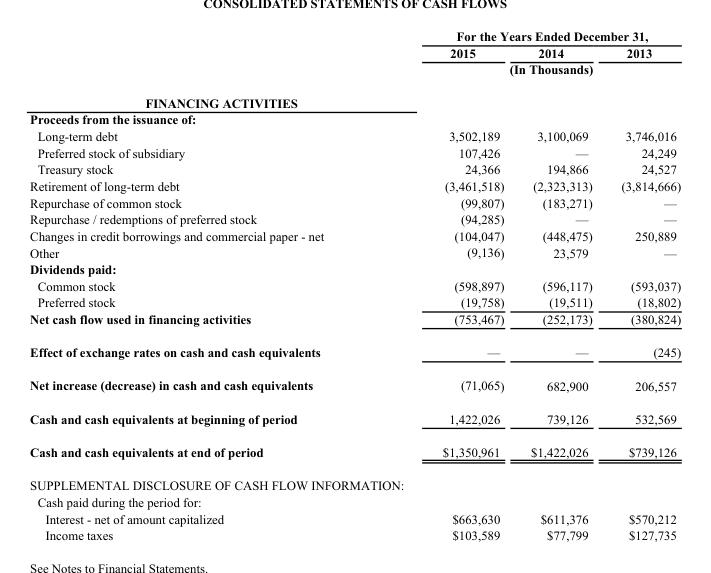table: (29, 28, 680, 541)
table column: (29, 28, 382, 541), (382, 28, 516, 541), (516, 28, 606, 541), (606, 28, 680, 541)
table column header: (29, 28, 680, 85)
table projected row header: (29, 85, 680, 110), (29, 468, 680, 493), (29, 110, 680, 127), (29, 260, 680, 277), (29, 493, 680, 509)
table row: (29, 401, 680, 435), (29, 335, 680, 368), (29, 368, 680, 401), (29, 435, 680, 468), (29, 60, 680, 85), (29, 85, 680, 110), (29, 310, 680, 335), (29, 468, 680, 493), (29, 110, 680, 127), (29, 127, 680, 144), (29, 160, 680, 177), (29, 193, 680, 210), (29, 210, 680, 227), (29, 243, 680, 260), (29, 260, 680, 277), (29, 293, 680, 310), (29, 509, 680, 526), (29, 28, 680, 44), (29, 44, 680, 60), (29, 144, 680, 160), (29, 177, 680, 193), (29, 227, 680, 243), (29, 277, 680, 293), (29, 493, 680, 509), (29, 526, 680, 541)
table spanning cell: (382, 60, 680, 85), (382, 28, 680, 44)
